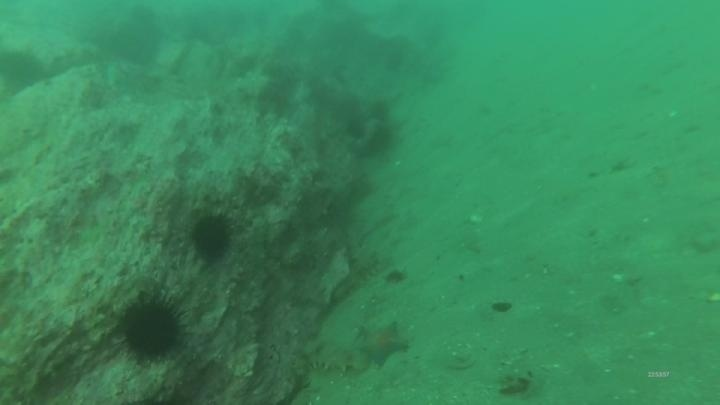echinus: (114, 290, 189, 365), (188, 210, 235, 264), (0, 46, 46, 97), (358, 120, 398, 158)
holothurian: (291, 339, 372, 378)
starfish: (356, 317, 412, 369)
